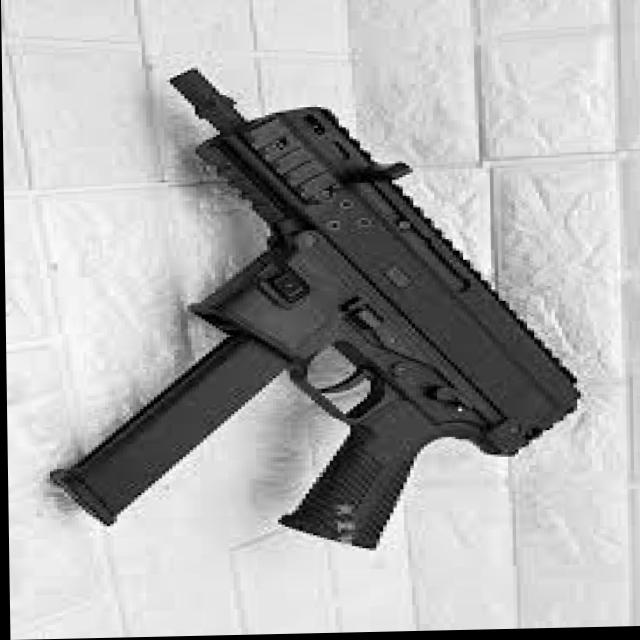semi: (41, 60, 582, 557)
